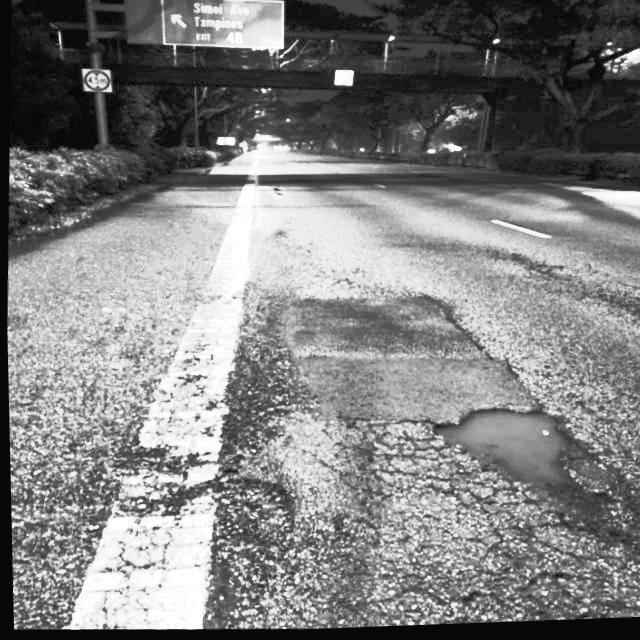Pothole: (405, 385, 609, 526)
